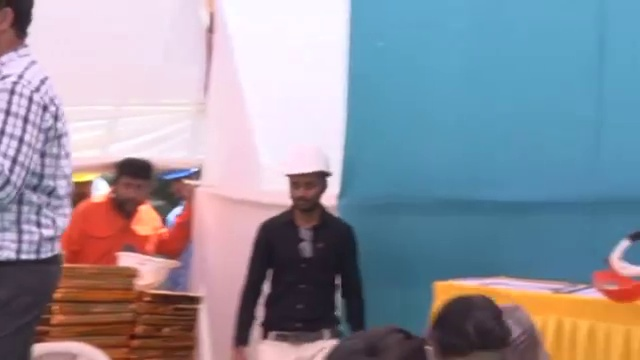helmet: (114, 247, 183, 288), (283, 145, 338, 182)
helmet_off: (422, 299, 517, 360), (102, 161, 159, 217), (0, 0, 39, 57)
helmet_on: (281, 148, 337, 223)
person: (234, 146, 366, 360), (0, 2, 72, 359), (61, 158, 183, 290)
